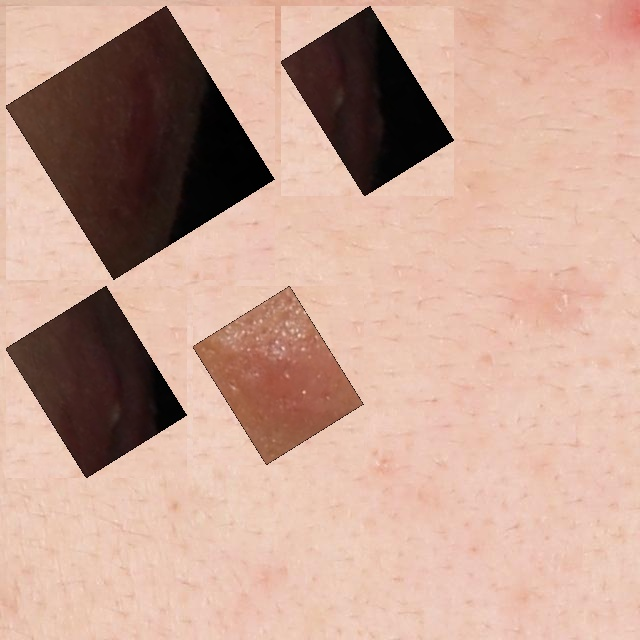nodule: (17, 17, 263, 268), (17, 297, 176, 466), (292, 17, 443, 185), (204, 297, 352, 453)
